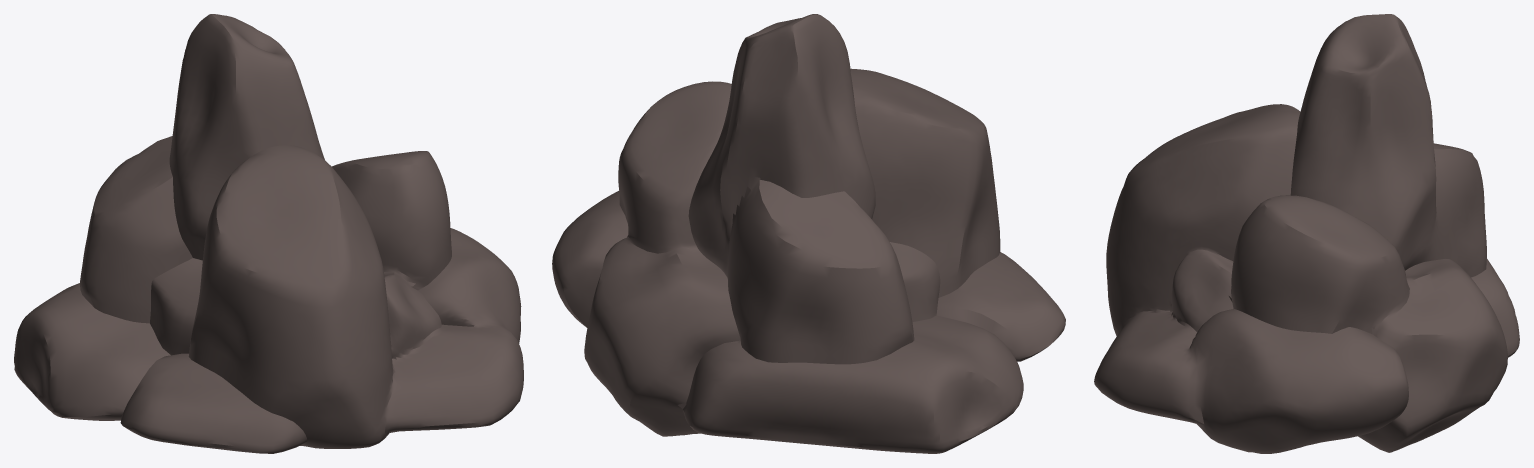
File: Environment_Cliff2.glb
The picture shows the model from 3 angles, left to right: view 1: azimuth 30°, elevation 25°; view 2: azimuth 150°, elevation 25°; view 3: azimuth 270°, elevation 25°; orthographic projection. The views are drawn at different scales.
Visible parts, largest first — view 1: Environment_Cliff2; view 2: Environment_Cliff2; view 3: Environment_Cliff2.
Boxes of the visible parts, x1,y1,x2,y2 form: Environment_Cliff2: (14,14,523,453); Environment_Cliff2: (552,14,1065,453); Environment_Cliff2: (1094,14,1519,453).
Bounding box in the file's own units: 8 × 6.91 × 7.11.
1 material, 1 textured.
